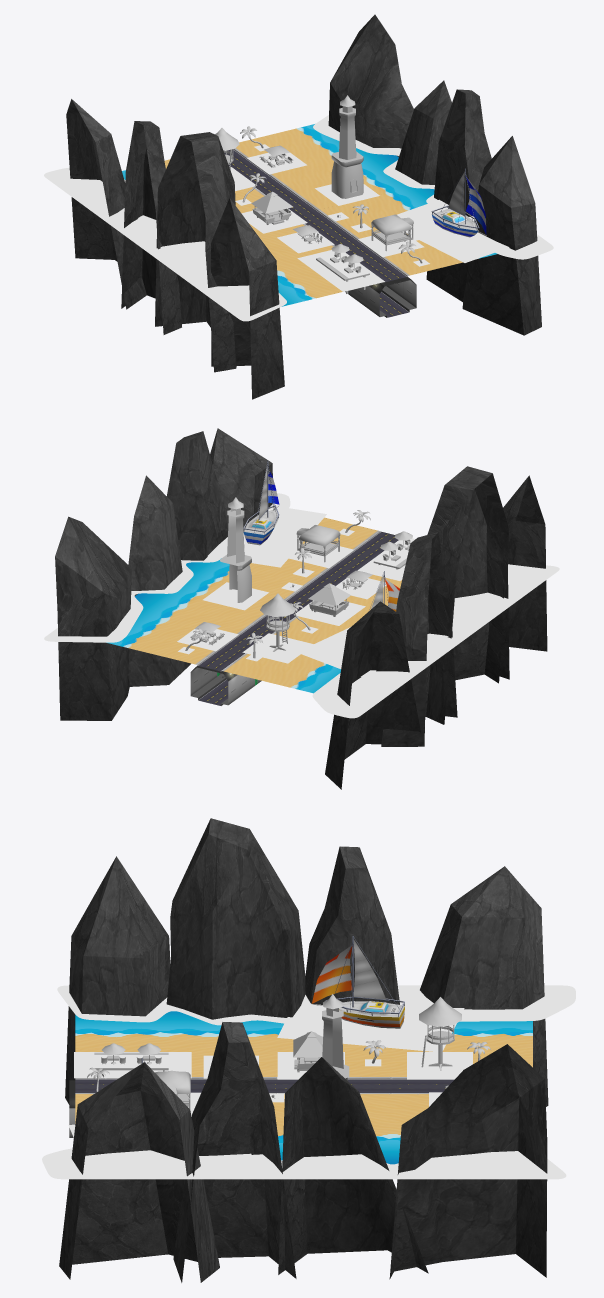
File: Beach_07.fbx
3 renders of one model, top to bottom at view 1: azimuth 30°, elevation 25°; view 2: azimuth 150°, elevation 25°; view 3: azimuth 270°, elevation 25°, orthographic. The views are drawn at different scales.
Parts seen in each view (by area): view 1: Beach_07; view 2: Beach_07; view 3: Beach_07.
Part boxes in pixels (x1=…): Beach_07: x1=44, y1=14, x2=553, y2=399; Beach_07: x1=44, y1=428, x2=559, y2=789; Beach_07: x1=42, y1=818, x2=575, y2=1282.
Bounding box in the file's own units: 22617 × 13384 × 25170.
